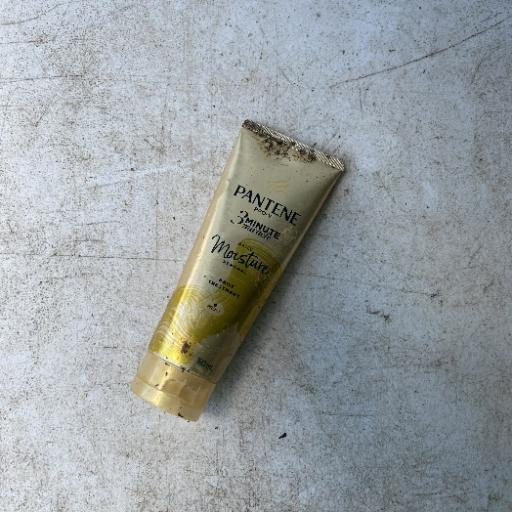Plastic: (128, 116, 347, 423)
